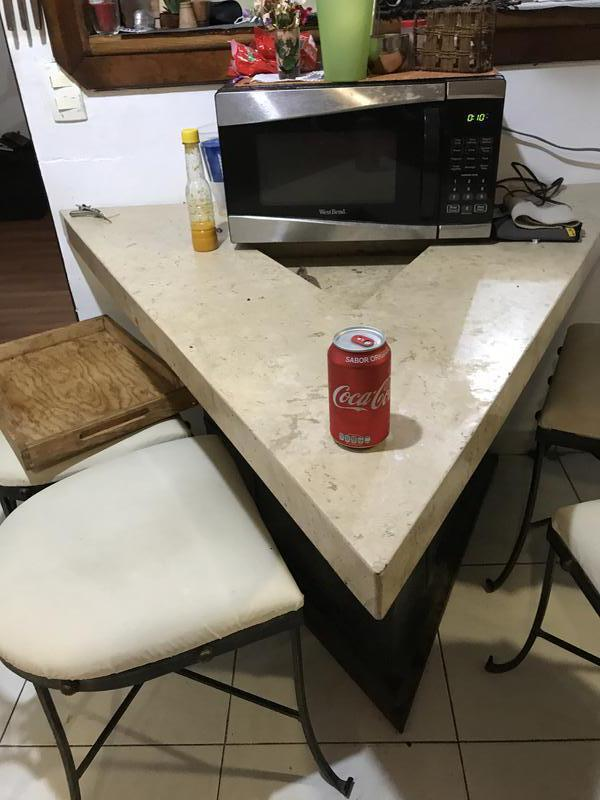coca_cola: (327, 328, 394, 452)
